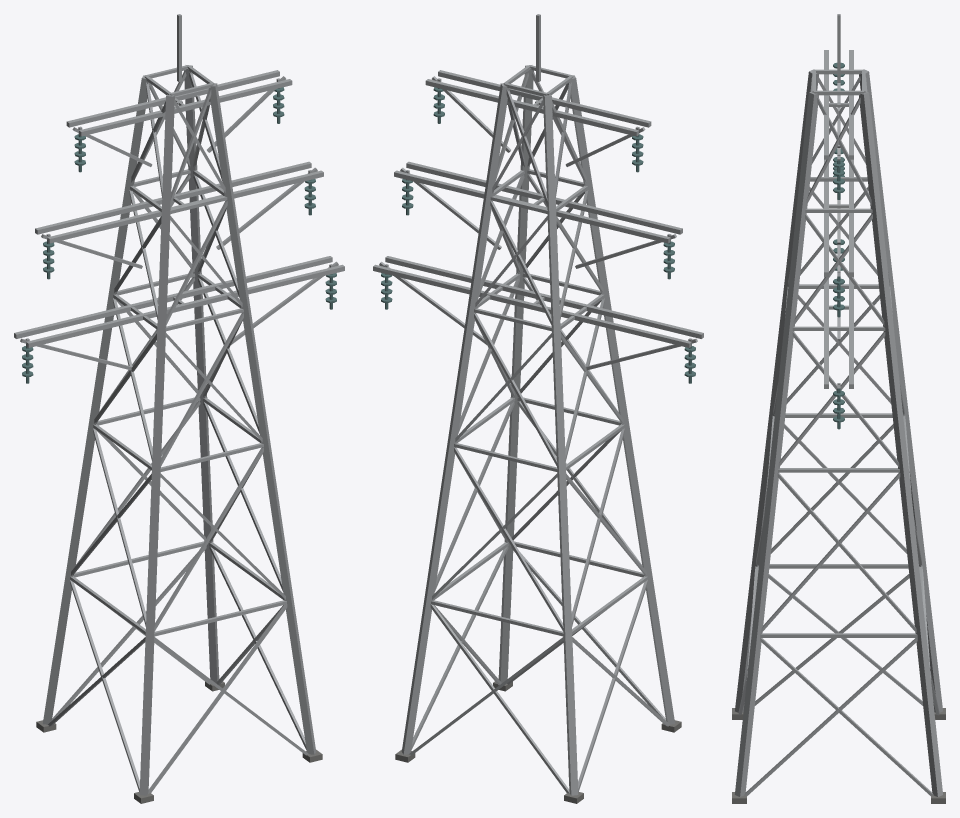
The model's file is transmission_tower.glb.
3 views of the same model, side by side, from view 1: azimuth 30°, elevation 25°; view 2: azimuth 150°, elevation 25°; view 3: azimuth 270°, elevation 25° (orthographic). The views are drawn at different scales.
Visible parts, largest first — view 1: lattice, insulators; view 2: lattice, insulators; view 3: lattice, insulators.
Part boxes in pixels (x1,y1,x2,y2): lattice: (14, 14, 344, 803); insulators: (22, 87, 336, 383); lattice: (373, 14, 703, 803); insulators: (381, 87, 695, 383); lattice: (732, 14, 945, 803); insulators: (833, 62, 844, 429).
Bounding box in the file's own units: 15.05 × 33.04 × 8.6.
